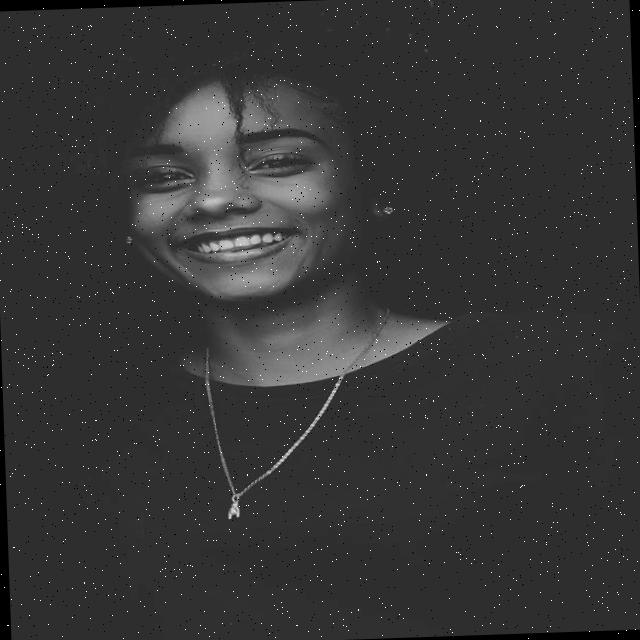Happiness: (116, 66, 368, 312)
